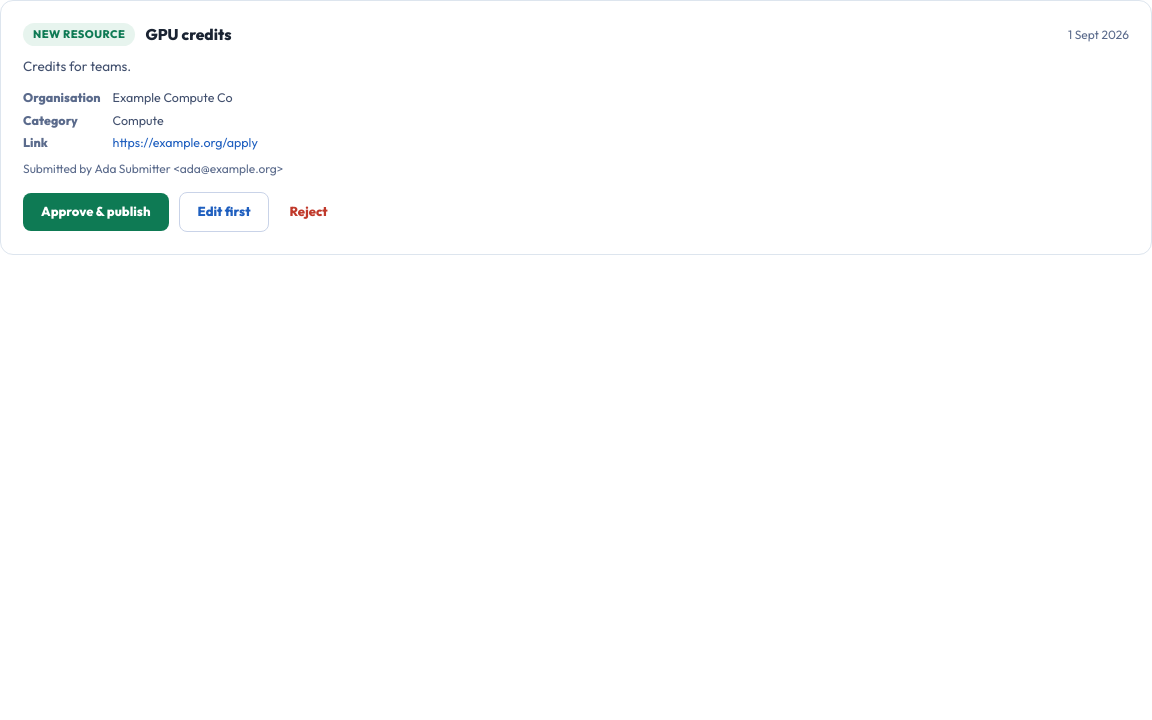
Test: ReviewCard › Edit first opens the prefilled resource form in a dialog, and Cancel closes it
Expected: the text "Save resource" is not shown
What coordinates should you click on to do the following:
click the button "Edit first"
I would click on:
 (224, 212)
Its box is [179,192,270,232].
(page scrolled)
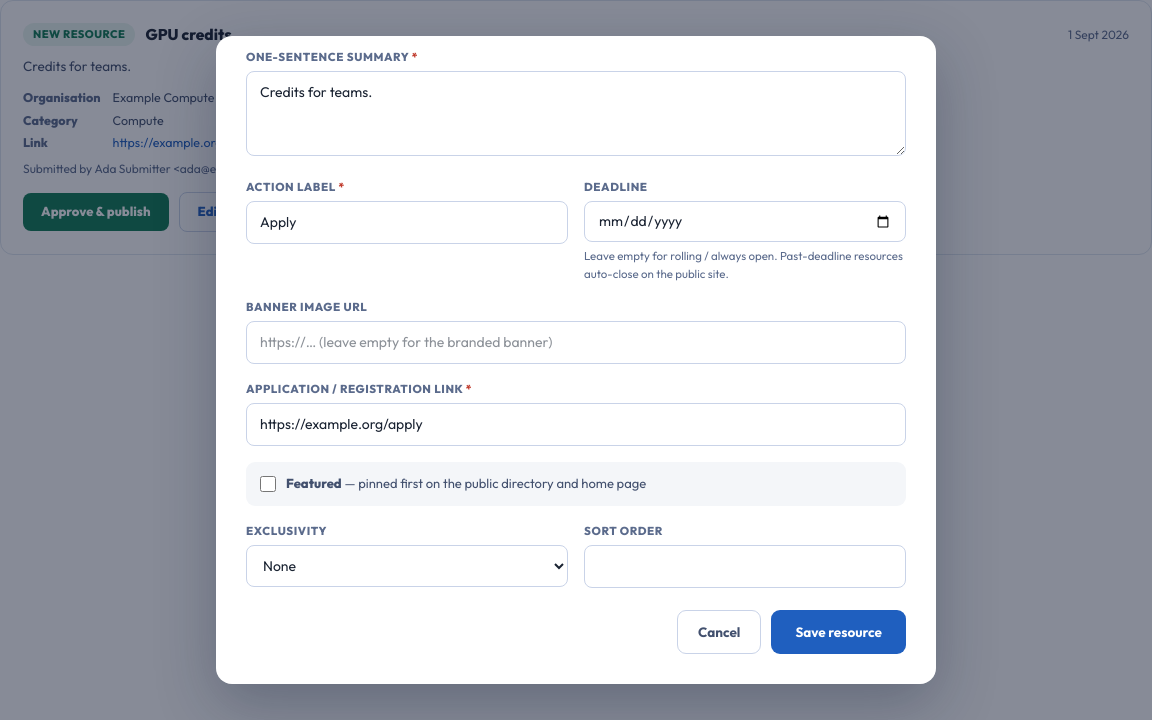
Now the field showing "https://example.org/apply" is shown, box [246,403,906,446]
What coordinates should you click on to do the following:
click the button "Cancel"
I would click on:
 (719, 632)
Its box is [677,610,761,654].
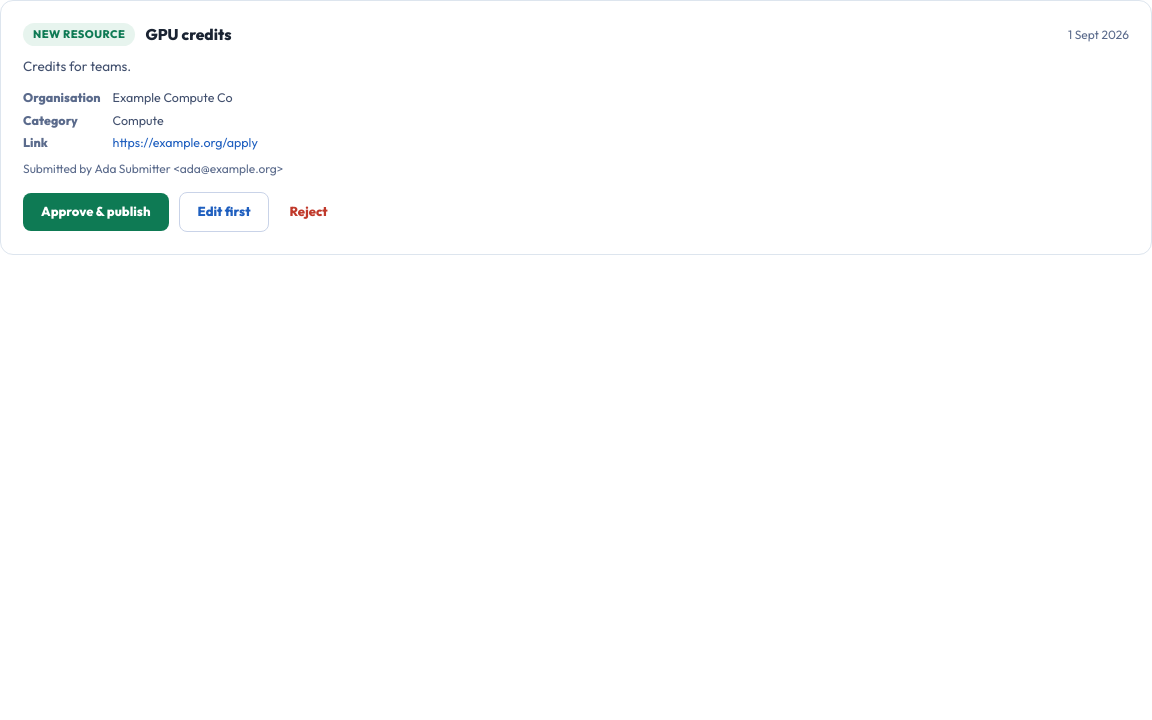
Now the dialog is gone
Now the button "Save resource" is gone
